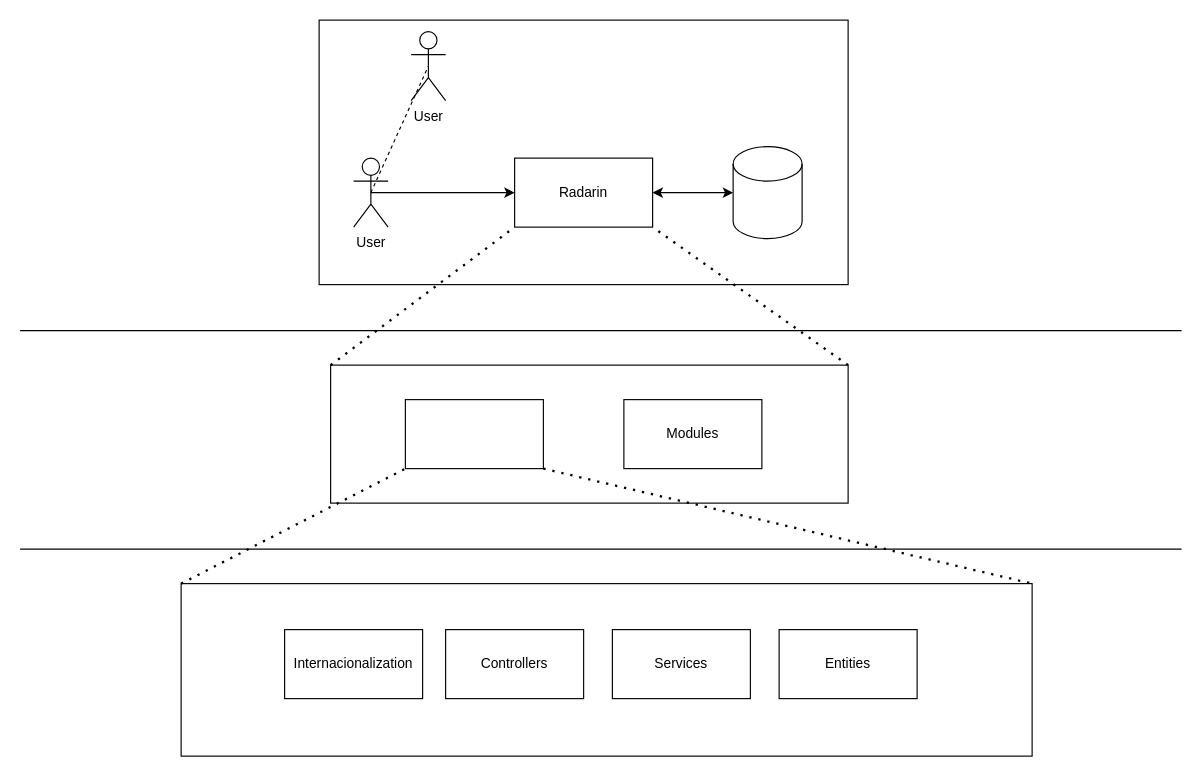
Some shapes in this 1203 by 776 pixel diagram are drawn without their labels. Each missing label, with the box of its shape:
Aplication: (404, 398, 543, 469)
POD: (732, 145, 802, 239)
